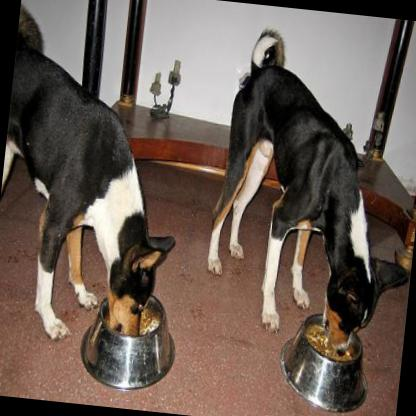basenji: (195, 20, 416, 360), (0, 2, 199, 353)
